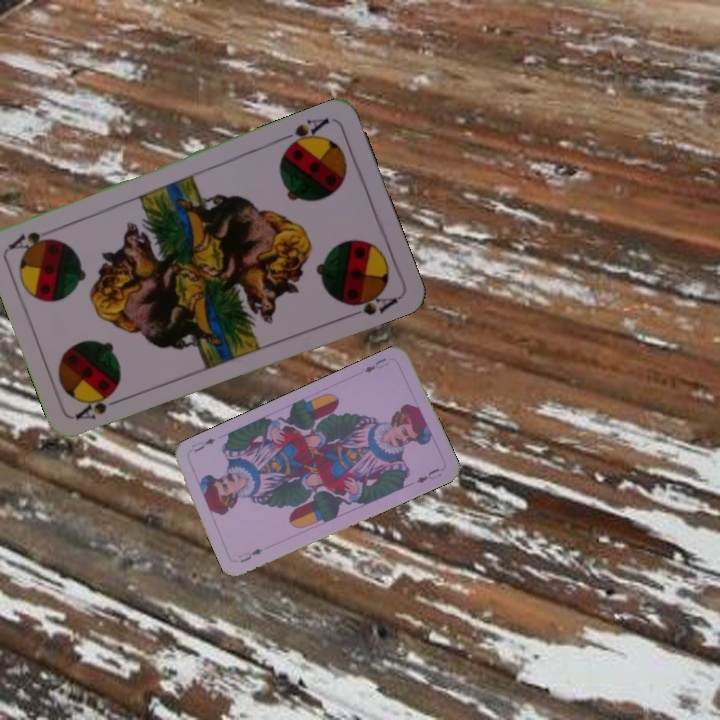EU: (360, 353, 391, 375), (234, 544, 265, 565)
SA: (277, 113, 332, 153), (71, 387, 129, 422)
